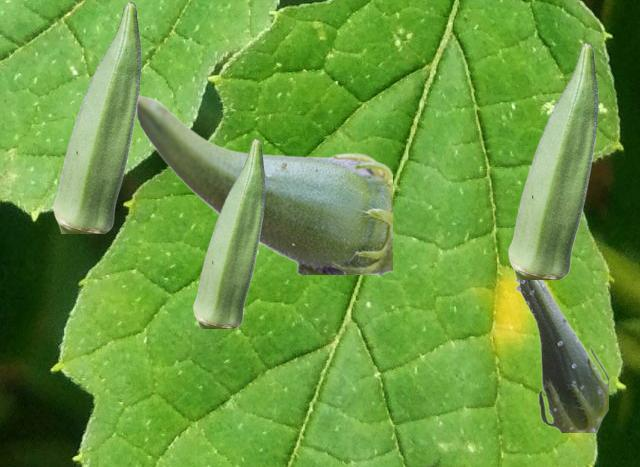okra: (136, 94, 391, 273), (508, 42, 597, 278), (53, 1, 140, 232), (514, 279, 607, 431), (193, 138, 264, 327)
